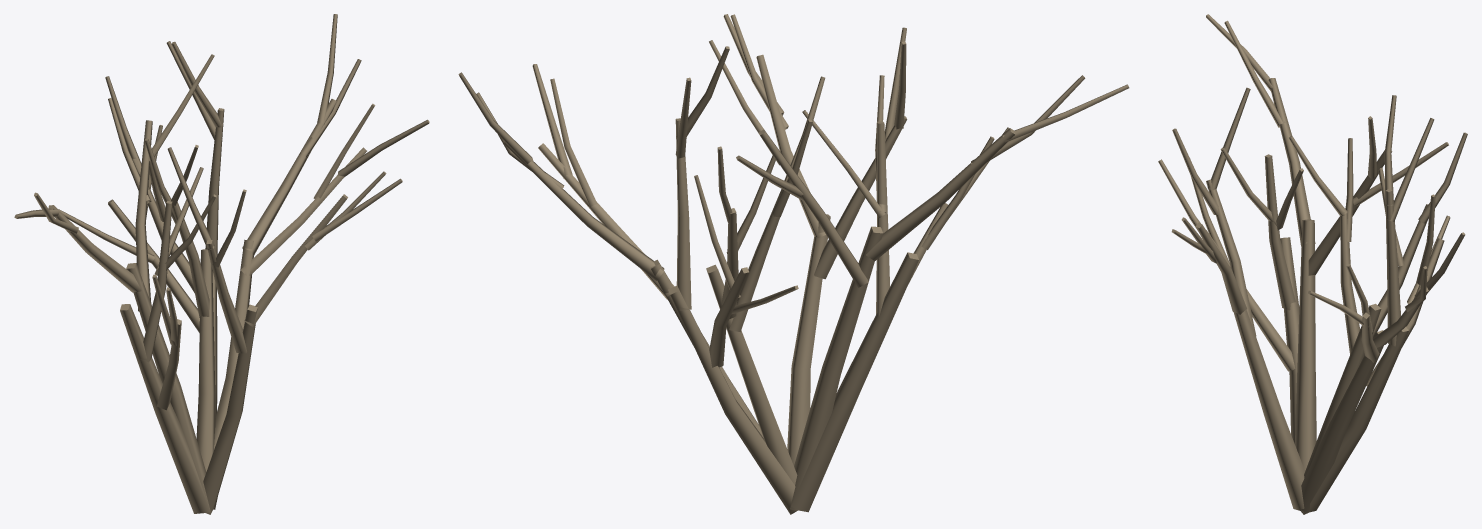
Rendered from dry_shrub_1.glb.
The picture shows the model from 3 angles, left to right: view 1: azimuth 30°, elevation 25°; view 2: azimuth 150°, elevation 25°; view 3: azimuth 270°, elevation 25°; orthographic projection. The views are drawn at different scales.
Parts seen in each view (by area): view 1: dry_shrub_1; view 2: dry_shrub_1; view 3: dry_shrub_1.
Part boxes in pixels (box(x1,y1,x2,y2)): dry_shrub_1: box(14, 14, 429, 514); dry_shrub_1: box(458, 14, 1129, 514); dry_shrub_1: box(1158, 14, 1467, 514).
Bounding box in the file's own units: 1.19 × 1.06 × 0.7015.
